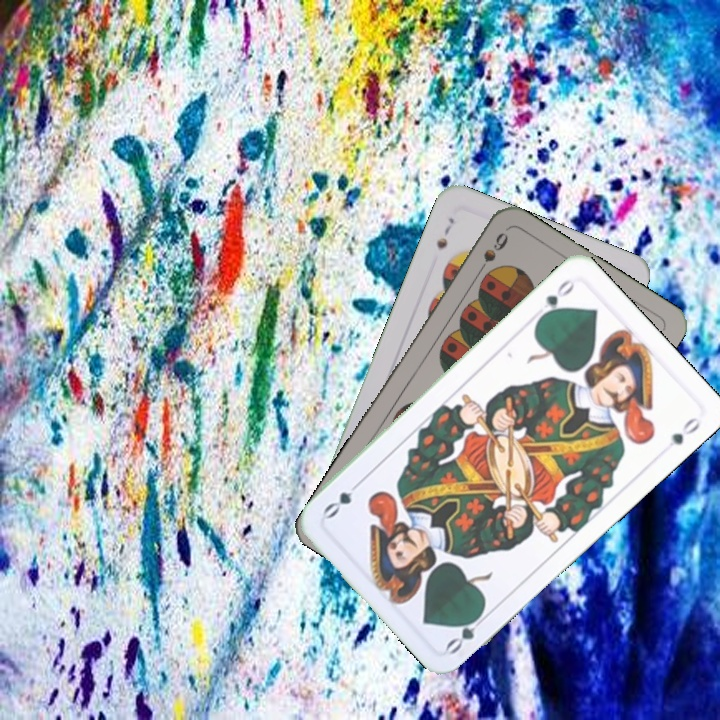GO: (442, 606, 491, 657), (534, 275, 578, 323)
S7: (432, 213, 457, 252)
S9: (472, 228, 511, 280)
